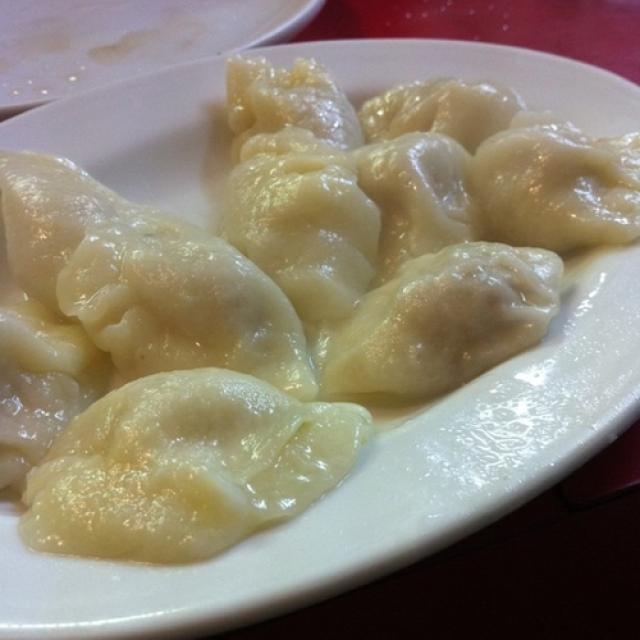带馅早点: (12, 21, 627, 602)
